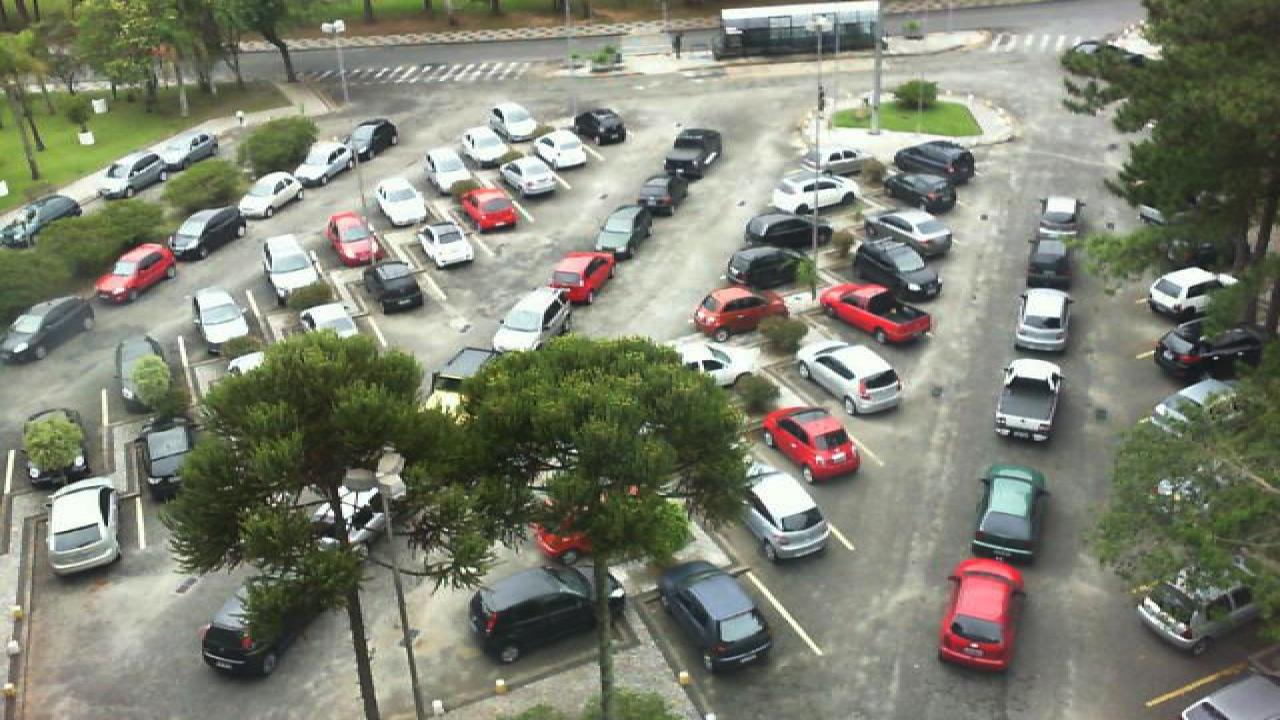Car: (464, 565, 630, 665), (658, 559, 776, 675), (938, 556, 1028, 672), (198, 572, 294, 680), (1134, 572, 1256, 654), (738, 468, 834, 560), (758, 404, 862, 484), (792, 342, 902, 416), (42, 477, 124, 574), (970, 464, 1048, 564), (816, 284, 936, 346), (1150, 318, 1266, 378), (2, 294, 96, 364), (992, 354, 1066, 441), (850, 240, 946, 302), (488, 287, 574, 354), (136, 416, 202, 501), (94, 240, 180, 304), (692, 286, 788, 342), (422, 346, 500, 414), (1146, 264, 1244, 318), (162, 206, 250, 262), (740, 207, 848, 251), (858, 206, 956, 254), (2, 195, 84, 251), (726, 243, 814, 295), (192, 286, 258, 354), (768, 170, 866, 214), (1010, 286, 1074, 353), (592, 202, 656, 266), (260, 233, 324, 297), (674, 338, 754, 388), (546, 250, 614, 306), (876, 170, 960, 215), (234, 170, 306, 219), (890, 140, 978, 180), (360, 260, 424, 315), (92, 152, 166, 199), (662, 126, 726, 179), (414, 217, 478, 269), (288, 142, 356, 189), (324, 210, 380, 266), (376, 184, 434, 238), (498, 156, 560, 202), (460, 186, 522, 232), (422, 151, 480, 199), (1024, 234, 1074, 289), (338, 118, 400, 161), (156, 138, 218, 178), (570, 107, 630, 147), (532, 129, 590, 170), (486, 102, 540, 143), (1036, 194, 1084, 238), (460, 126, 514, 165), (632, 173, 676, 217), (806, 146, 866, 178)
